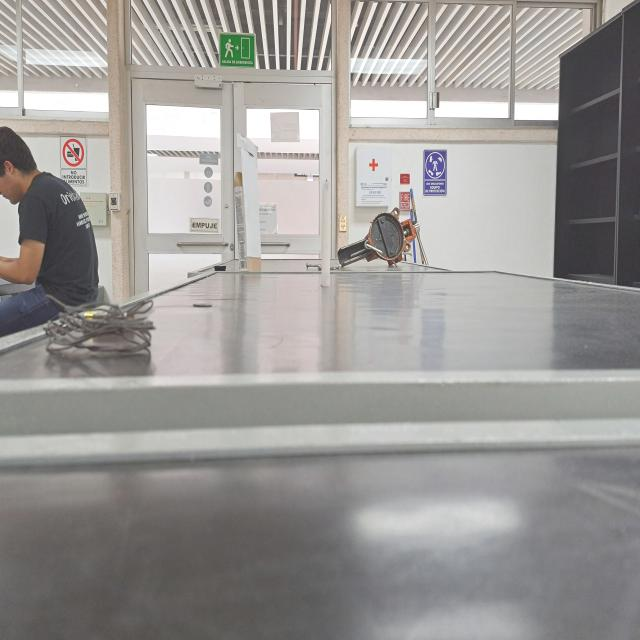candle: (316, 168, 336, 294)
wall: (236, 127, 264, 277)
